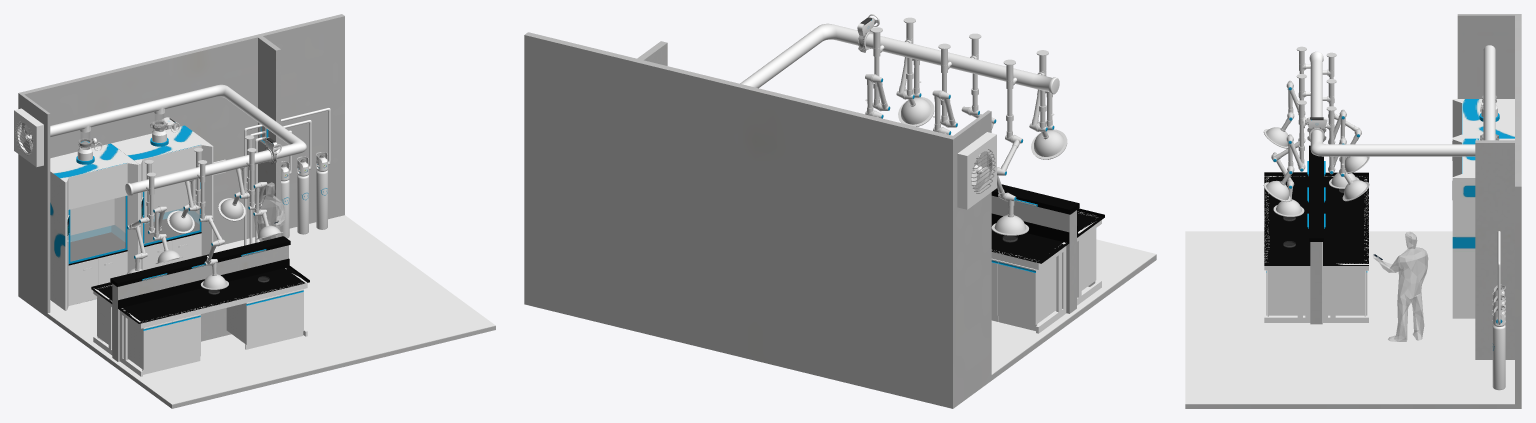
The model's file is LAB_C3.fbx.
The picture shows the model from 3 angles, left to right: view 1: azimuth 30°, elevation 25°; view 2: azimuth 150°, elevation 25°; view 3: azimuth 270°, elevation 25°; orthographic projection. The views are drawn at different scales.
Parts seen in each view (by area): view 1: Plane.005, Plane.009, body, Plane.001, body.001, Cube, Circle.056, Plane.006, glass, Cube.001, Plane.002, Circle.054 (+24 smaller); view 2: Plane.005, Plane.009, Circle.054, Cube, Plane.003, Cabinet1_Door.019, Cube.004, Circle.056, Plane.004, Cabinet1.007, Cube.001, hood.005 (+4 smaller); view 3: Plane.009, Plane.005, Plane.006, body.001, Circle.056, Plane.003, Plane.001, Man01_0057D0_0, body, Cabinet1.003, Cabinet1.004, Cube.001 (+13 smaller).
Boxes of the visible parts, x1,y1,x2,y2 form: Plane.005: (18, 14, 495, 408); Plane.009: (47, 215, 495, 404); body: (50, 143, 139, 310); Plane.001: (118, 258, 309, 323); body.001: (111, 125, 213, 270); Cube: (112, 245, 288, 361); Circle.056: (50, 84, 306, 159); Plane.006: (258, 36, 280, 240); glass: (70, 196, 125, 261); Cube.001: (110, 236, 290, 286); Plane.002: (120, 268, 307, 376); Circle.054: (125, 148, 272, 195); Plane.005: (524, 32, 1156, 408); Plane.009: (991, 239, 1156, 374); Circle.054: (864, 31, 1059, 94); Cube: (991, 195, 1076, 313); Plane.003: (991, 213, 1069, 263); Cabinet1_Door.019: (998, 260, 1036, 324); Cube.004: (957, 132, 996, 209); Circle.056: (740, 23, 859, 88); Plane.004: (991, 242, 1066, 333); Cabinet1.007: (1036, 257, 1056, 323); Cube.001: (991, 184, 1079, 214); hood.005: (1031, 129, 1067, 159); Plane.009: (1185, 231, 1514, 404); Plane.005: (1185, 14, 1521, 408); Plane.006: (1475, 140, 1514, 359); body.001: (1452, 138, 1514, 318); Circle.056: (1309, 45, 1495, 156); Plane.003: (1323, 172, 1368, 265); Plane.001: (1264, 172, 1310, 265); Man01_0057D0_0: (1373, 231, 1428, 341); body: (1452, 99, 1514, 138); Cabinet1.003: (1267, 270, 1305, 315); Cabinet1.004: (1328, 270, 1365, 315); Cube.001: (1309, 145, 1323, 241).
Size of the model in its own units: 586 by 341 by 467.
